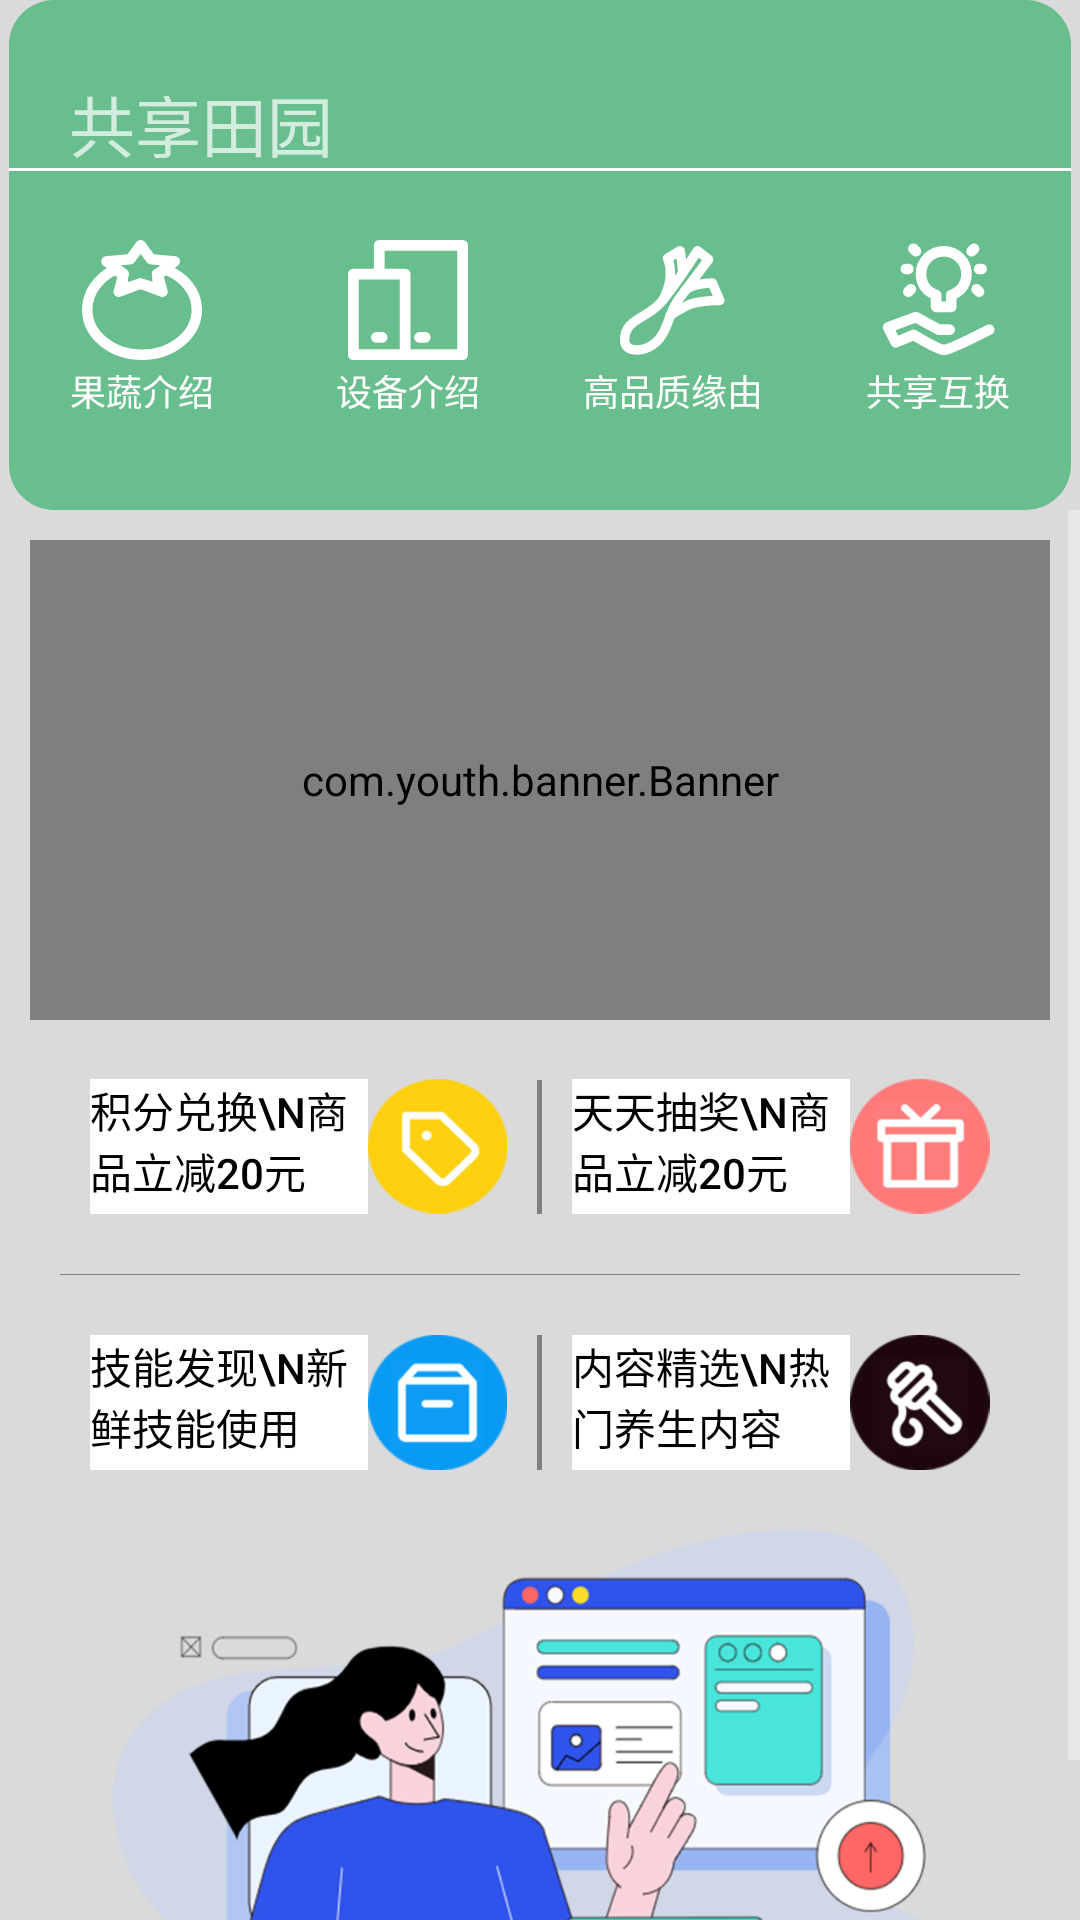

Icon bounding boxes for this 1080px×1920px phone screenshot, format (x1, y1, x2, y2):
gift: (850, 1079, 990, 1214)
honey: (850, 1335, 990, 1470)
tagone: (368, 1079, 507, 1214)
